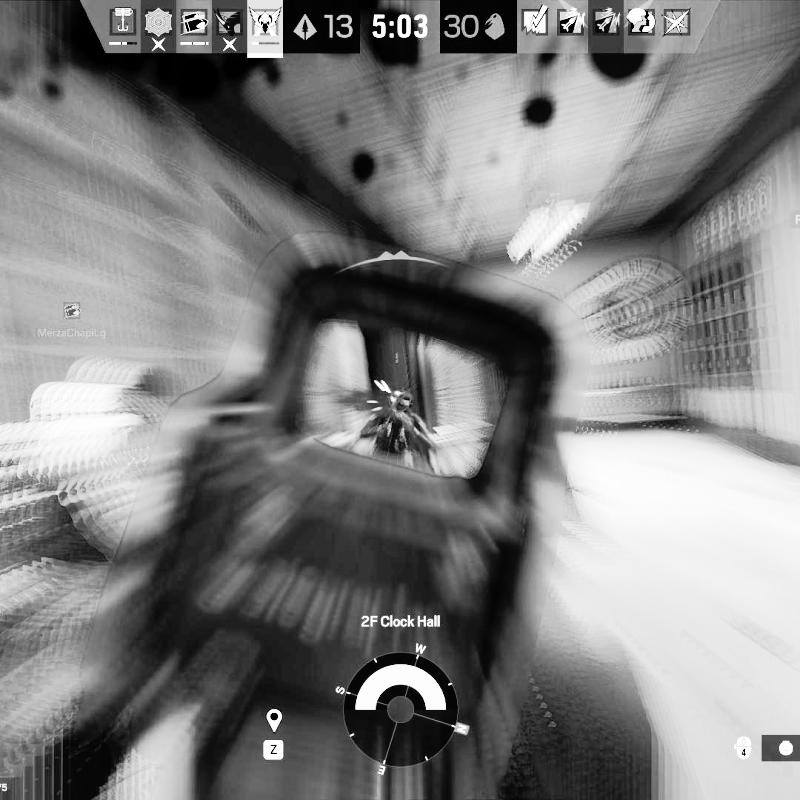Character: (356, 386, 443, 471)
Friend_label: (38, 301, 106, 341)
Head: (75, 357, 166, 395), (391, 389, 415, 408)
